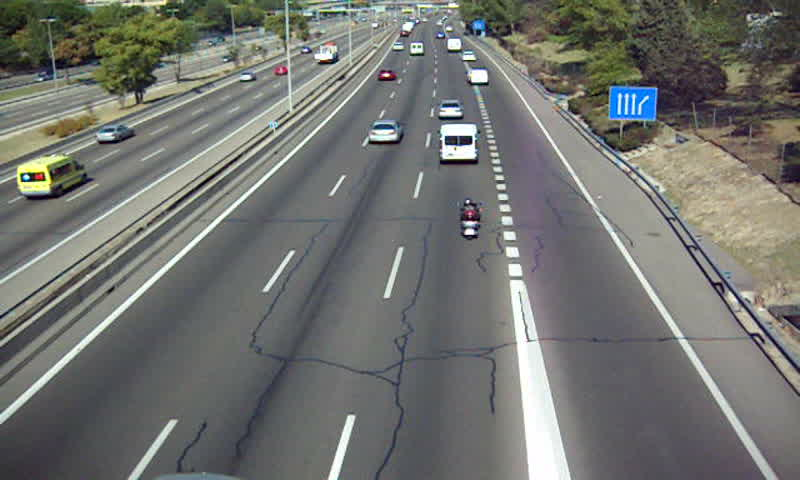car: (368, 119, 404, 143), (439, 99, 463, 121), (376, 70, 393, 83)
motorcycle: (459, 199, 483, 239)
van: (440, 124, 477, 163), (465, 68, 490, 86)
